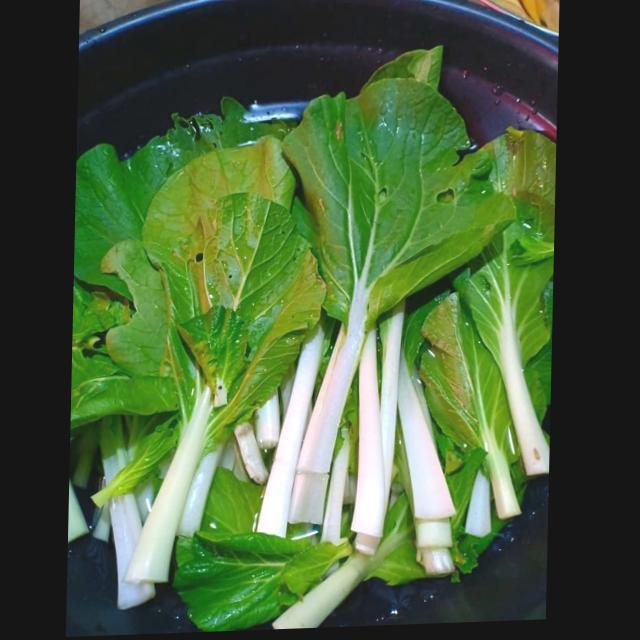biowaste: (282, 88, 518, 529), (126, 194, 319, 585), (73, 99, 282, 394), (455, 134, 557, 524), (405, 274, 531, 579), (172, 469, 360, 634), (349, 313, 457, 581), (72, 413, 182, 611), (145, 139, 317, 249), (236, 332, 325, 539), (275, 559, 379, 632), (366, 477, 429, 591), (361, 50, 445, 108)
